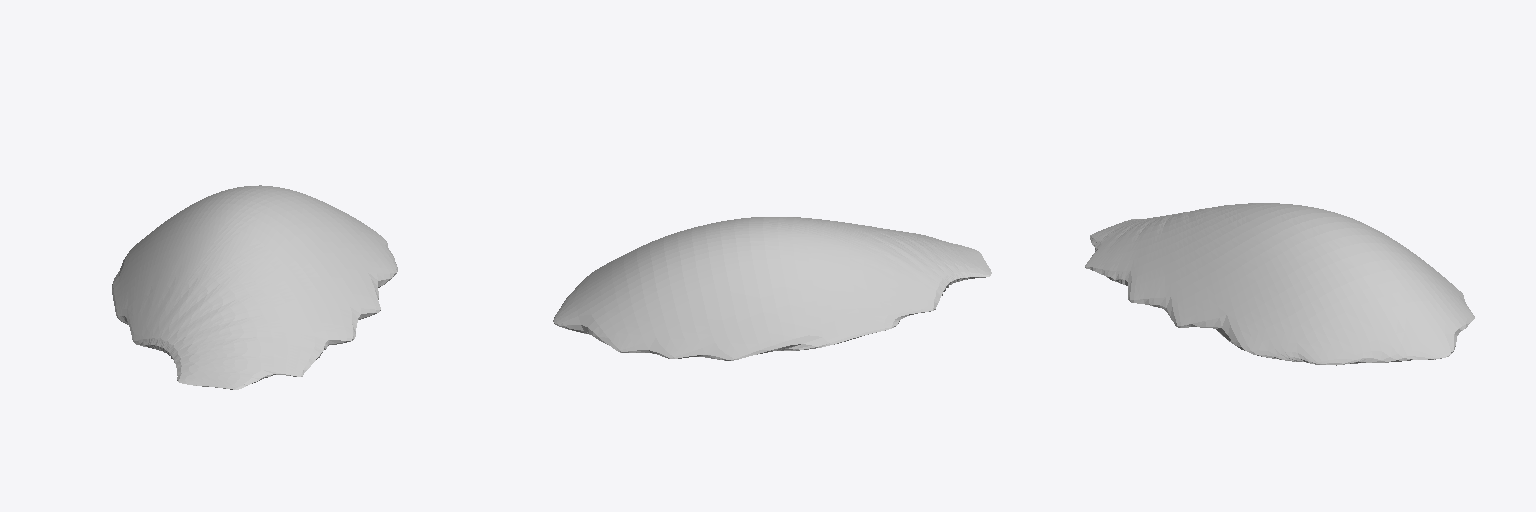
Rendered from BeachPart.obj.
3 renders of one model, left to right at view 1: azimuth 30°, elevation 25°; view 2: azimuth 150°, elevation 25°; view 3: azimuth 270°, elevation 25°, orthographic.
Visible parts, largest first — view 1: Sphere_Sphere.001; view 2: Sphere_Sphere.001; view 3: Sphere_Sphere.001.
Boxes of the visible parts, x1=… form: Sphere_Sphere.001: x1=112, y1=185, x2=397, y2=389; Sphere_Sphere.001: x1=553, y1=217, x2=991, y2=360; Sphere_Sphere.001: x1=1085, y1=203, x2=1474, y2=365.
Size of the model in its own units: 1.44 by 0.3471 by 1.62.